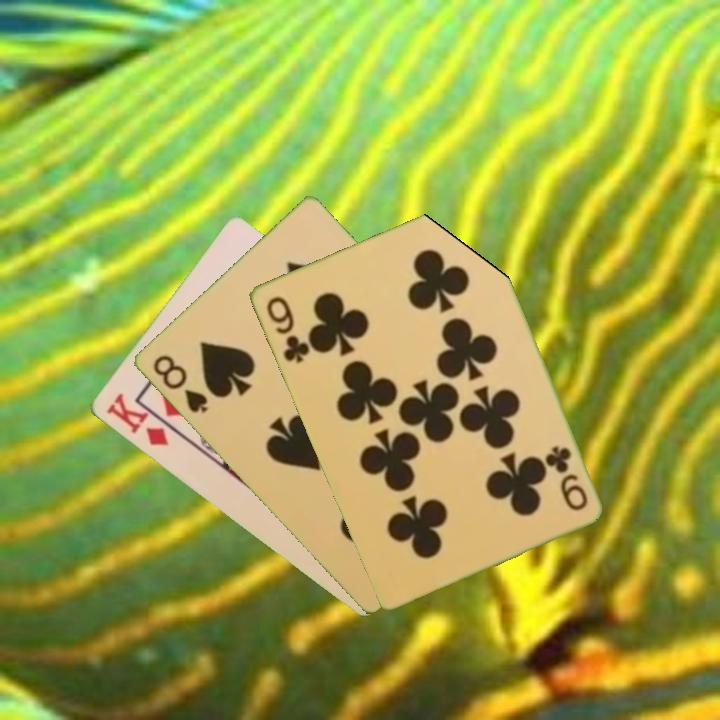8s: (149, 351, 210, 416)
9c: (262, 292, 312, 366), (543, 442, 591, 514)
Kd: (102, 389, 172, 449)
